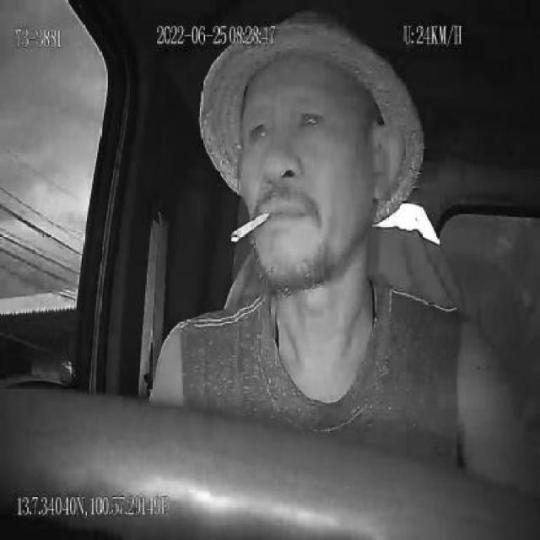smoking: (230, 208, 272, 246)
